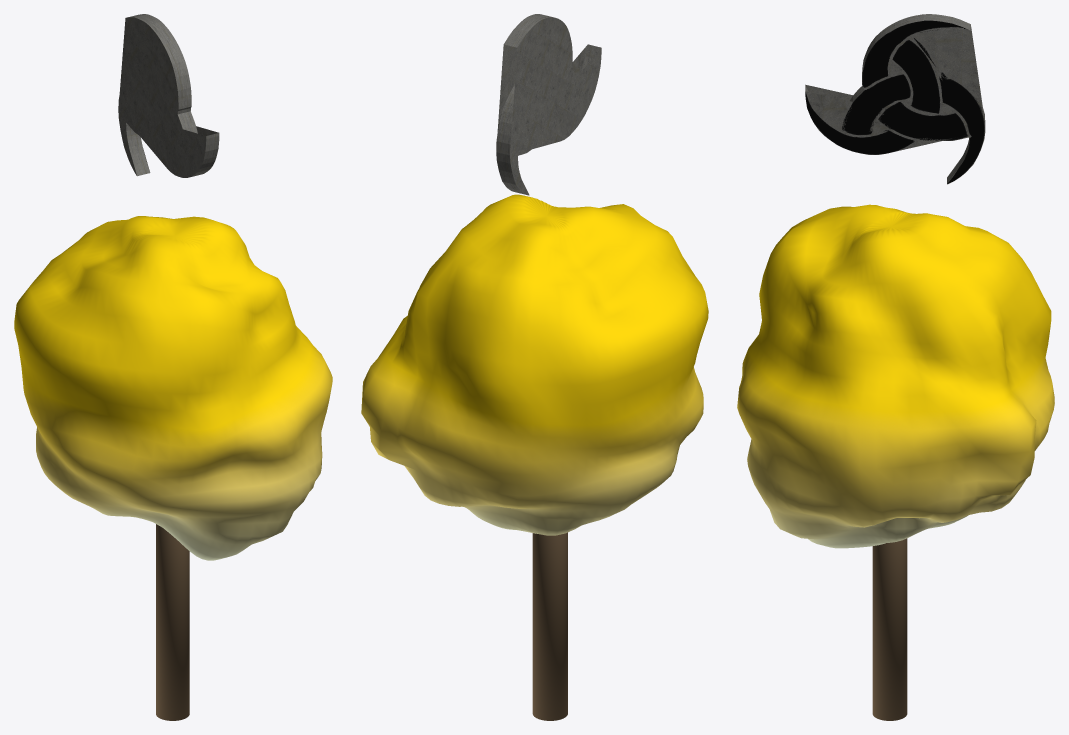
Rendered from OdinTree.fbx.
3 views of the same model, side by side, from view 1: azimuth 30°, elevation 25°; view 2: azimuth 150°, elevation 25°; view 3: azimuth 270°, elevation 25° (orthographic). The views are drawn at different scales.
Visible parts, largest first — view 1: Sphere, Plane; view 2: Sphere, Plane; view 3: Sphere, Plane.
Part boxes in pixels (x1,y1,x2,y2): Sphere: (14, 216, 332, 720); Plane: (118, 14, 219, 177); Sphere: (361, 194, 708, 720); Plane: (496, 14, 601, 195); Sphere: (737, 204, 1054, 720); Plane: (805, 14, 985, 184).
Bounding box in the file's own units: 306 × 732 × 303.
